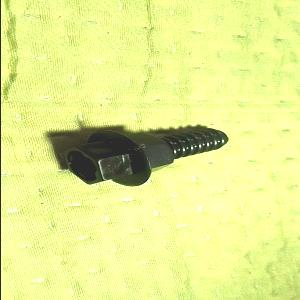parafuso: (62, 128, 230, 186)
